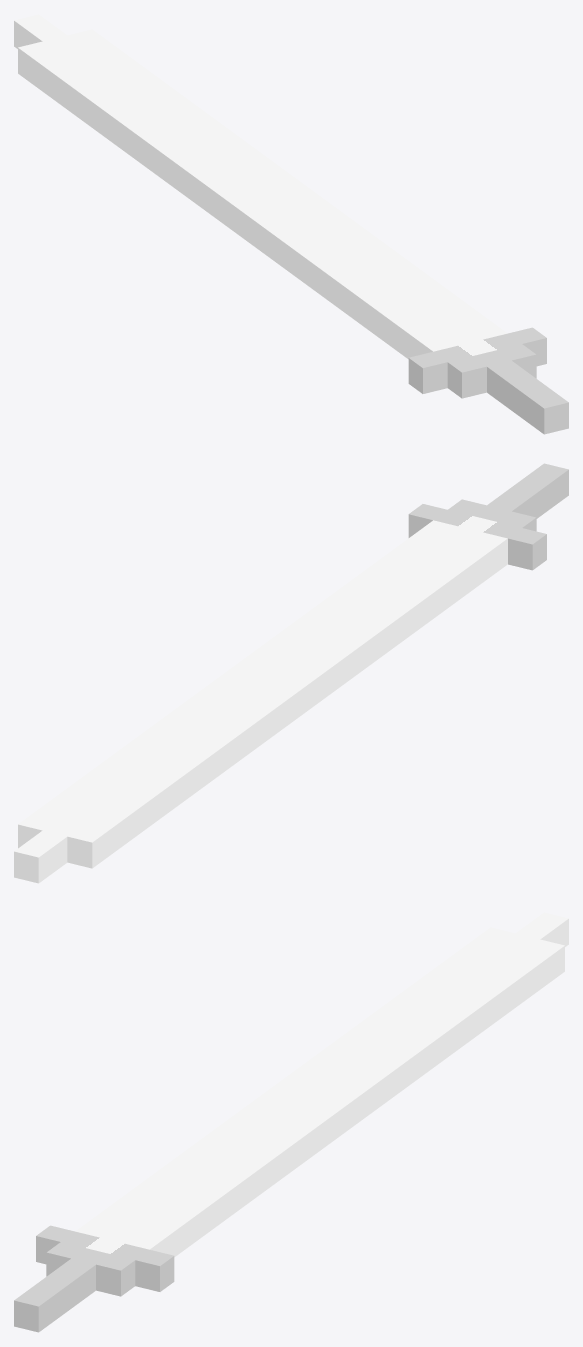
3 views of the same model, one above another, from view 1: azimuth 30°, elevation 25°; view 2: azimuth 150°, elevation 25°; view 3: azimuth 330°, elevation 25° (orthographic).
Parts seen in each view (by area): view 1: Object; view 2: Object; view 3: Object.
Boxes of the visible parts, box(x1,y1,x2,y2) form: Object: box(14, 14, 568, 434); Object: box(14, 463, 568, 883); Object: box(14, 912, 568, 1332).
Size of the model in its own units: 5 by 1 by 37.
Materials: 1 (1 with a texture image).
